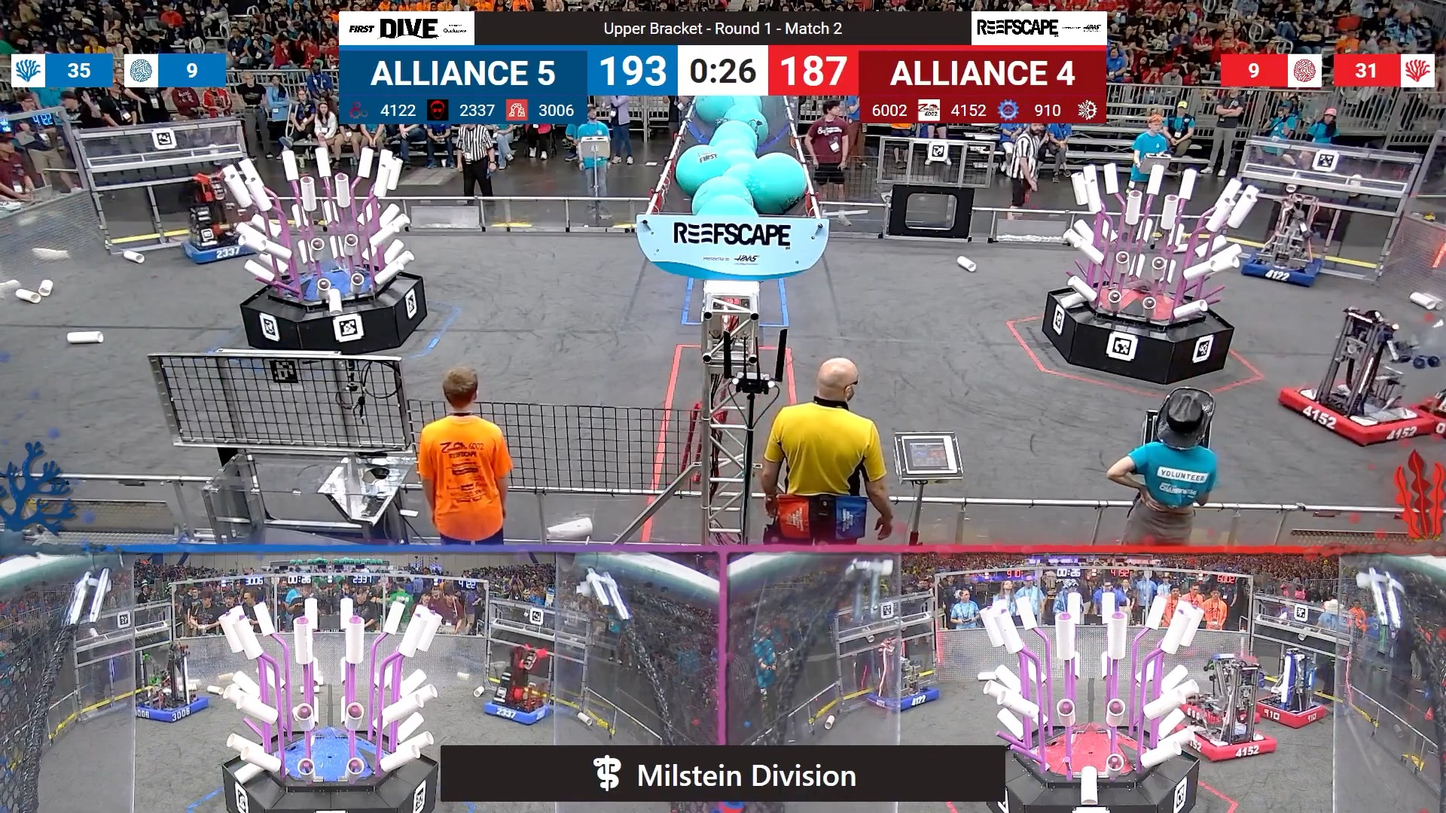bumpers: (1271, 379, 1438, 448), (1176, 722, 1283, 764), (1232, 248, 1332, 290), (127, 691, 217, 729), (174, 231, 264, 269), (476, 693, 560, 729), (862, 683, 944, 717)
